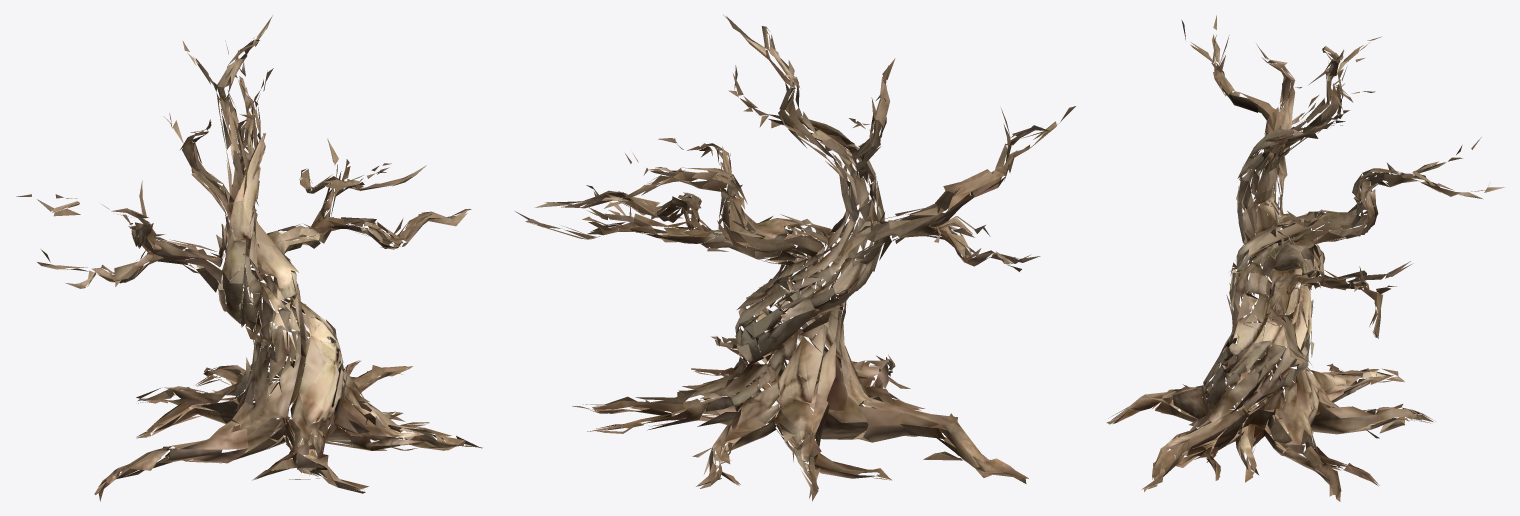
Rendered from tree_dead.glb.
3 renders of one model, left to right at view 1: azimuth 30°, elevation 25°; view 2: azimuth 150°, elevation 25°; view 3: azimuth 270°, elevation 25°, orthographic. The views are drawn at different scales.
Visible parts, largest first — view 1: Mesh_0; view 2: Mesh_0; view 3: Mesh_0.
Part boxes in pixels (bbox=[...]): Mesh_0: bbox=[16, 15, 482, 501]; Mesh_0: bbox=[515, 15, 1075, 501]; Mesh_0: bbox=[1106, 15, 1504, 501].
Bounding box in the file's own units: 1.81 × 1.59 × 1.43.
1 material, 1 textured.
